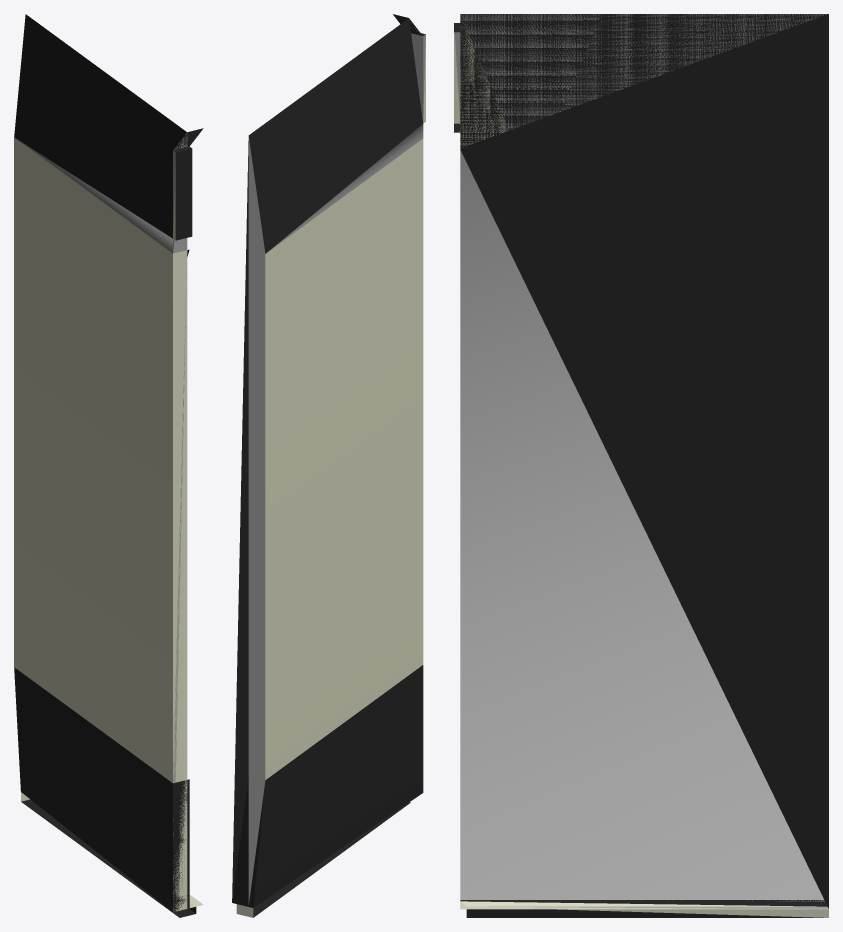
File: original-128-right.obj
3 views of the same model, side by side, from view 1: azimuth 30°, elevation 25°; view 2: azimuth 150°, elevation 25°; view 3: azimuth 270°, elevation 25° (orthographic). The views are drawn at different scales.
Parts seen in each view (by area): view 1: mesh8/mesh8-geometry#mesh8-geometry.002; view 2: mesh8/mesh8-geometry#mesh8-geometry.002; view 3: mesh8/mesh8-geometry#mesh8-geometry.002.
Boxes of the visible parts, <box> form: mesh8/mesh8-geometry#mesh8-geometry.002: <box>14,14,203,917</box>; mesh8/mesh8-geometry#mesh8-geometry.002: <box>232,14,425,917</box>; mesh8/mesh8-geometry#mesh8-geometry.002: <box>454,14,828,917</box>.
Bounding box in the file's own units: 0.0581 × 1.41 × 0.5352.
